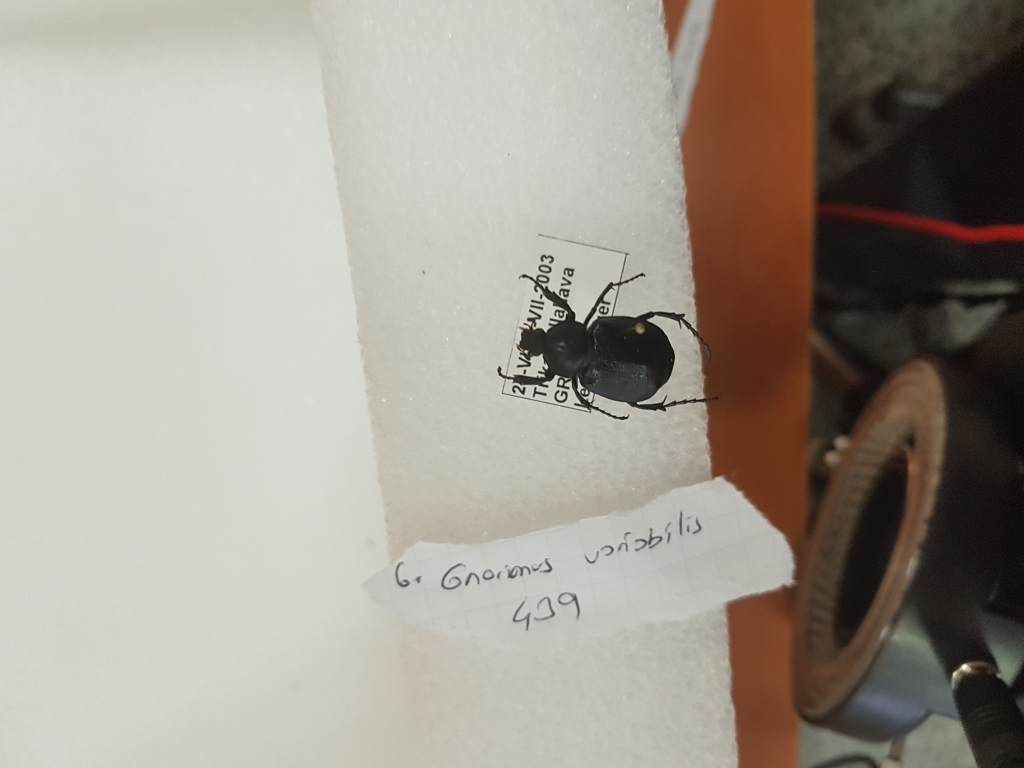Gnorimus_variabilis: (482, 265, 723, 424)
